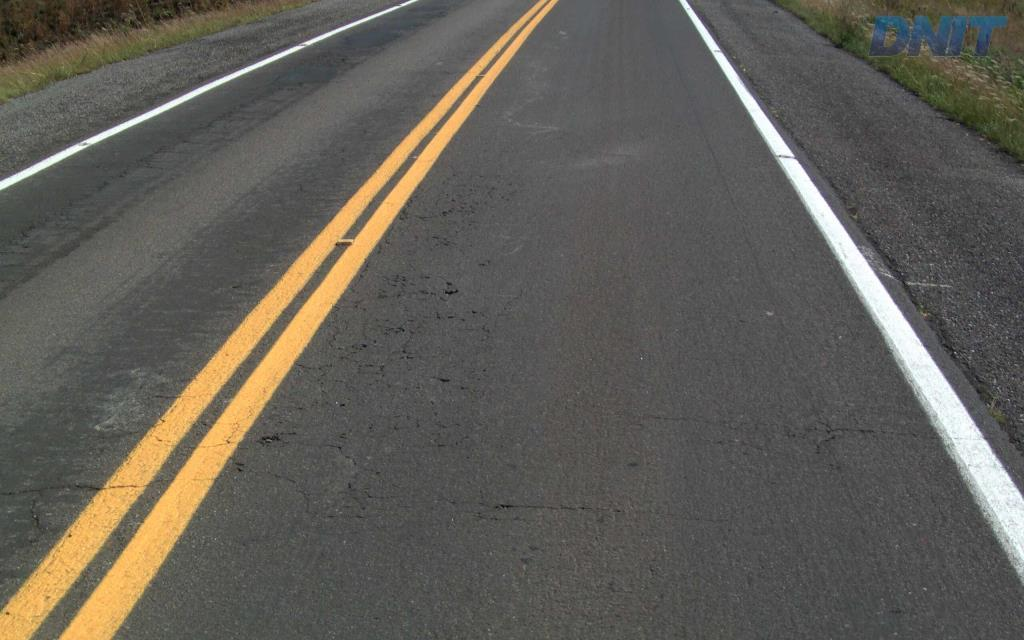crack: (808, 434, 845, 475)
